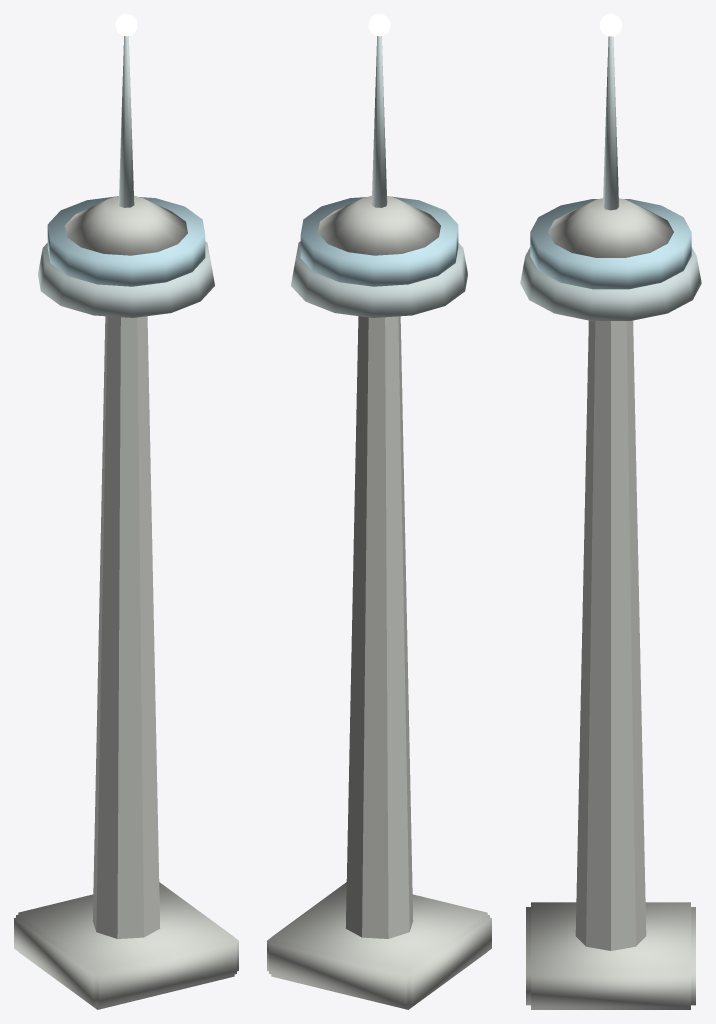
File: monument.glb
The picture shows the model from 3 angles, left to right: view 1: azimuth 30°, elevation 25°; view 2: azimuth 150°, elevation 25°; view 3: azimuth 270°, elevation 25°; orthographic projection.
Visible parts, largest first — view 1: Monument; view 2: Monument; view 3: Monument.
Part boxes in pixels (left/top/right/bottom): Monument: left=14, top=14, right=238, bottom=1009; Monument: left=267, top=14, right=491, bottom=1009; Monument: left=520, top=14, right=701, bottom=1009.
Bounding box in the file's own units: 1.4 × 8.41 × 1.44.
